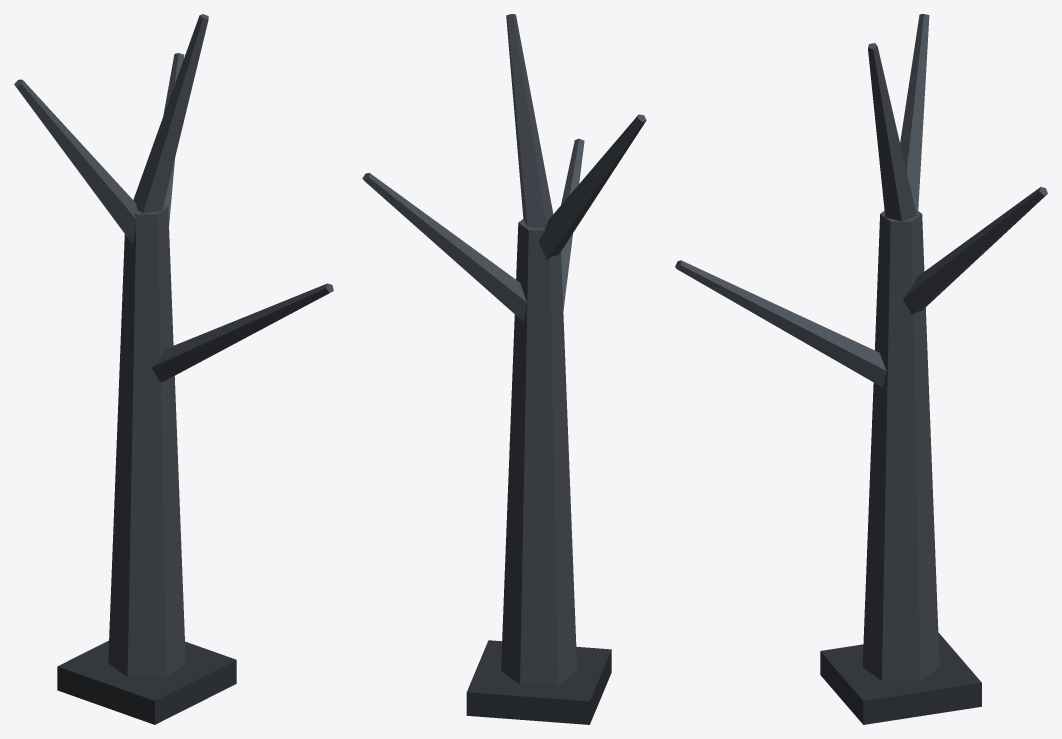
Rendered from env_dead_tree.fbx.
The picture shows the model from 3 angles, left to right: view 1: azimuth 30°, elevation 25°; view 2: azimuth 150°, elevation 25°; view 3: azimuth 270°, elevation 25°; orthographic projection.
Parts seen in each view (by area): view 1: env_dead_tree; view 2: env_dead_tree; view 3: env_dead_tree.
Part boxes in pixels (left/top/right/bottom): env_dead_tree: left=14, top=14, right=333, bottom=724; env_dead_tree: left=362, top=14, right=646, bottom=724; env_dead_tree: left=675, top=14, right=1047, bottom=724.
Size of the model in its own units: 497 by 1398 by 709.
